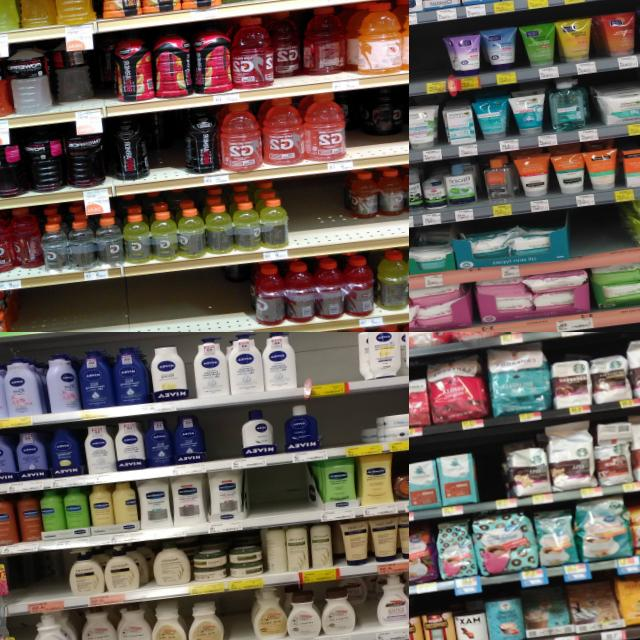100% O.O.S: (569, 202, 626, 268), (409, 35, 448, 96)
100- O.O.S: (17, 265, 238, 332), (284, 172, 352, 257), (292, 332, 359, 396), (248, 466, 309, 526), (19, 550, 70, 612), (202, 411, 242, 471), (473, 438, 505, 511), (321, 400, 361, 457), (220, 592, 255, 640)
